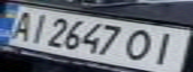2: (42, 15, 69, 49)
4: (78, 20, 106, 55)
6: (60, 17, 87, 52)
7: (96, 23, 127, 57)
A: (3, 8, 39, 42)
I: (145, 29, 187, 66), (21, 11, 51, 44)
O: (121, 27, 160, 63)
